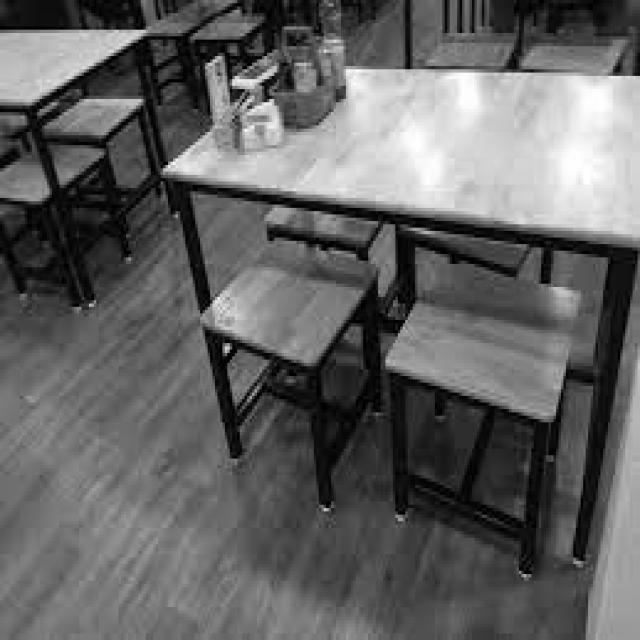table: (161, 48, 637, 269)
